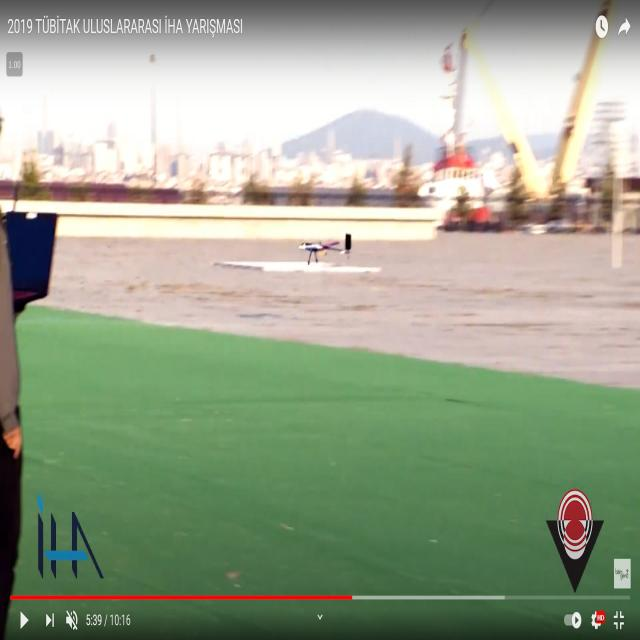iha: (298, 232, 352, 266)
